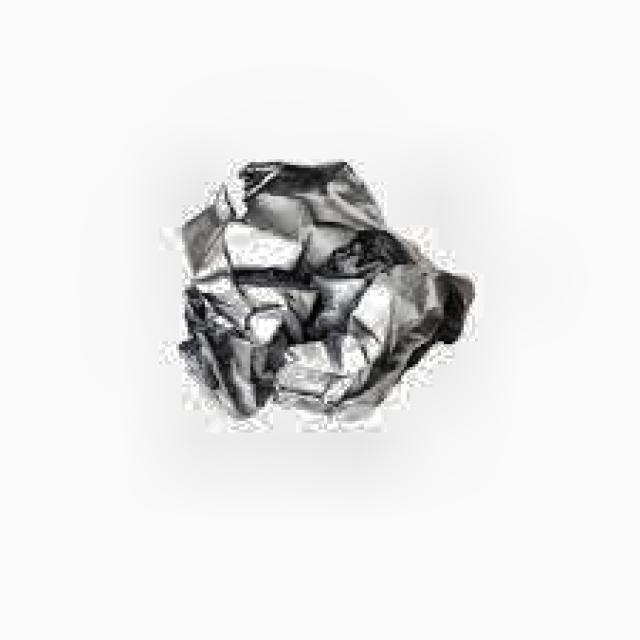Foil: (170, 145, 485, 427)
